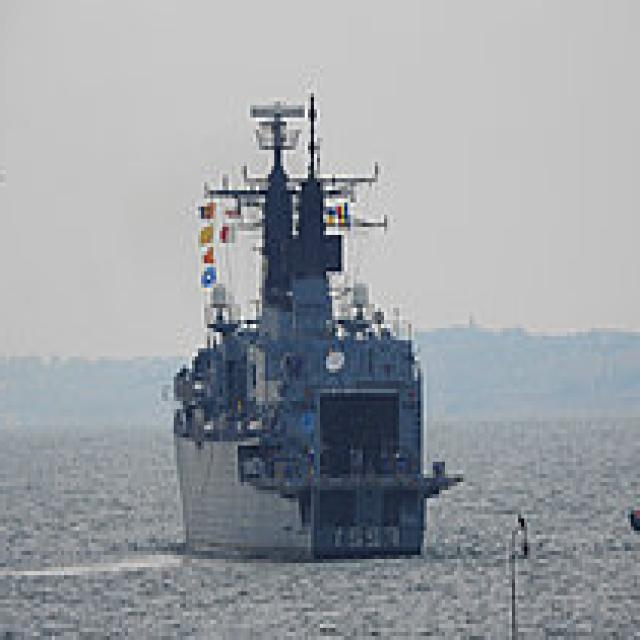Warship: (168, 89, 466, 563)
